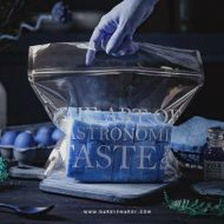snack: (19, 35, 211, 190)
